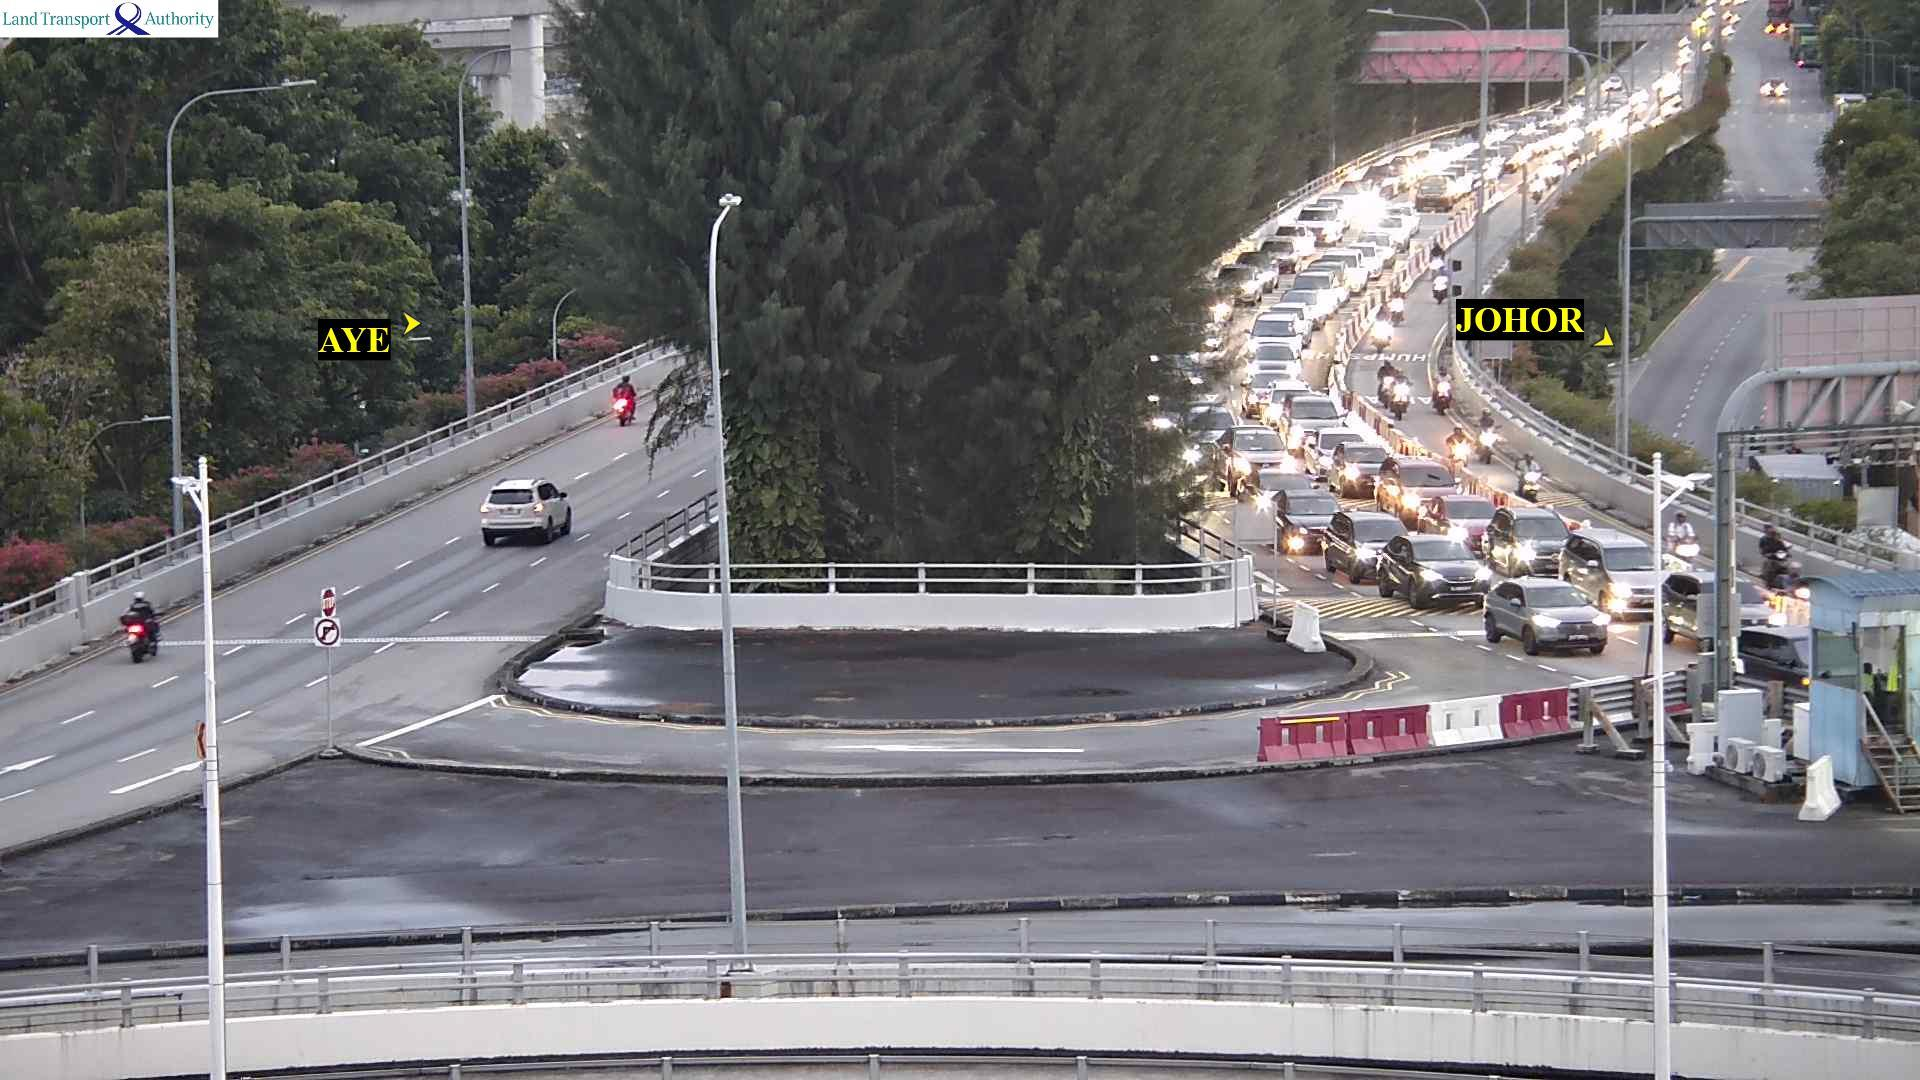vehicle-secondlink-johor: (1557, 542, 1701, 608), (1490, 582, 1619, 653), (1378, 541, 1489, 603), (1481, 510, 1577, 572), (1564, 538, 1696, 574), (1328, 514, 1412, 558), (1287, 397, 1357, 443), (1423, 495, 1499, 531), (1273, 492, 1342, 531), (1764, 546, 1809, 596), (1304, 431, 1362, 468), (1224, 448, 1290, 480), (1179, 409, 1236, 444), (1332, 446, 1395, 475), (1266, 235, 1317, 269), (1275, 289, 1336, 318), (1222, 429, 1284, 456), (1414, 178, 1461, 211), (1221, 265, 1259, 306), (1251, 315, 1307, 340), (1246, 371, 1302, 394), (1241, 252, 1278, 287), (1325, 255, 1365, 287), (1249, 347, 1300, 372), (1445, 421, 1470, 471), (1515, 455, 1543, 500), (1348, 245, 1382, 277), (1340, 183, 1371, 215), (1367, 171, 1399, 203), (1303, 210, 1336, 239), (1323, 198, 1352, 231), (1367, 307, 1390, 348), (1476, 405, 1494, 454), (1433, 367, 1451, 414), (1394, 373, 1414, 411), (1387, 285, 1406, 324), (1671, 510, 1693, 539), (1374, 219, 1406, 239), (1441, 166, 1468, 190), (1358, 232, 1389, 251), (1455, 158, 1478, 179), (1377, 361, 1391, 396), (1429, 265, 1441, 303), (1394, 158, 1415, 179), (1523, 127, 1549, 142), (1530, 175, 1543, 202), (1487, 149, 1501, 171), (1414, 150, 1436, 164), (1501, 144, 1516, 161), (1505, 138, 1524, 150), (1431, 241, 1443, 261), (1545, 120, 1561, 135), (1519, 136, 1543, 145)
vehicle-secondlink-singapore: (480, 481, 575, 549), (117, 597, 165, 659), (609, 380, 645, 427)
